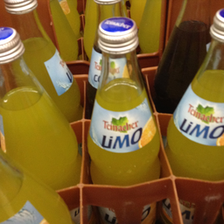soda: (1, 26, 82, 185), (87, 17, 161, 187), (167, 10, 224, 223)
